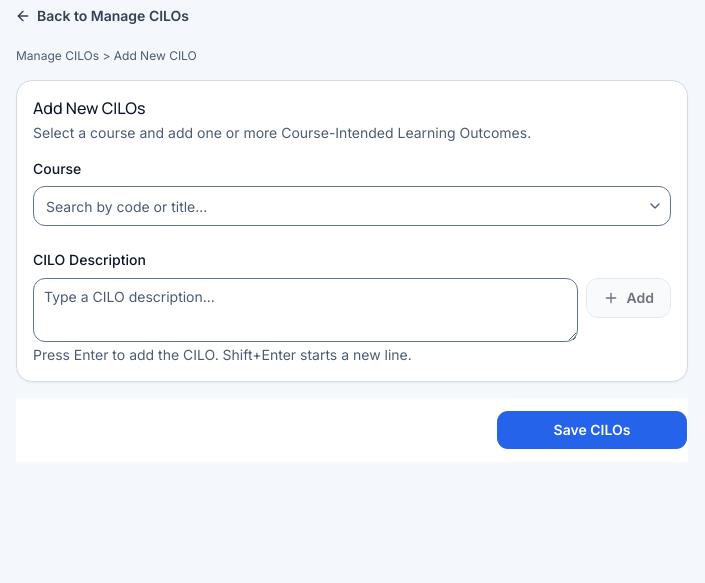
Scenario: AddCiloForm › adds and removes CILO entries before saving
Type "Design instruction" into the text box labelled "CILO Description" at coordinates (305, 310), box [33,278,578,342]
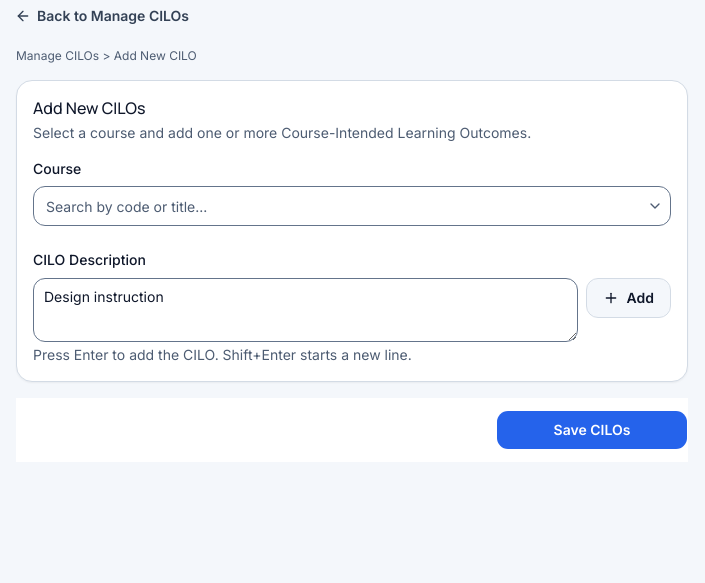
Click the button "Add" at coordinates (628, 298), box [586,278,671,318]
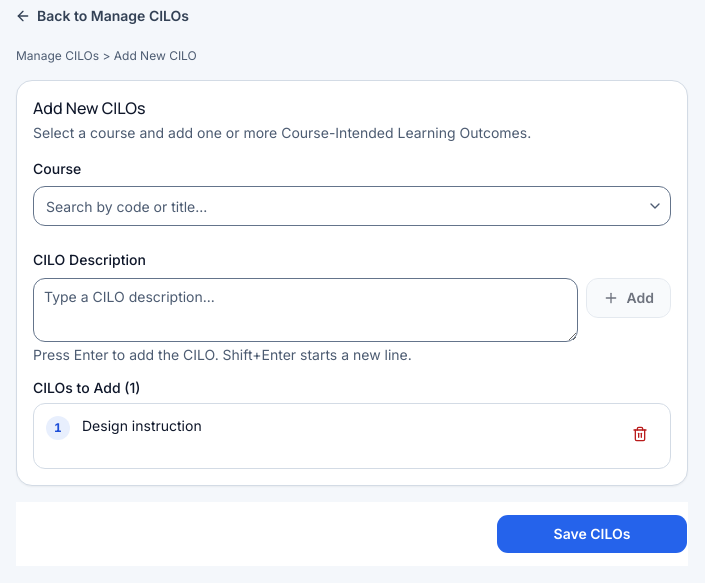
Check: the text "CILOs to Add (1)" is shown, box [33,378,140,396]
Check: the text "Design instruction" is shown, box [82,416,202,434]
Click the button named "Remove CILO 1" at coordinates (640, 434), box [618,412,662,456]
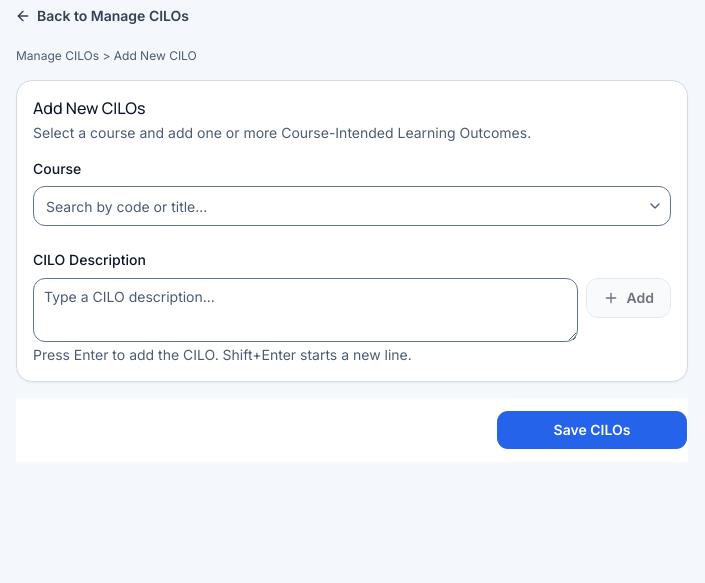
Check: the text "CILOs to Add (1)" is gone
